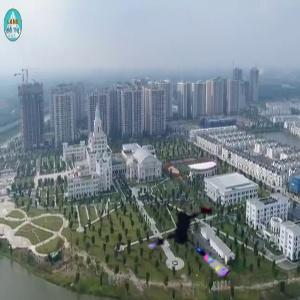drone: (148, 183, 250, 285)
